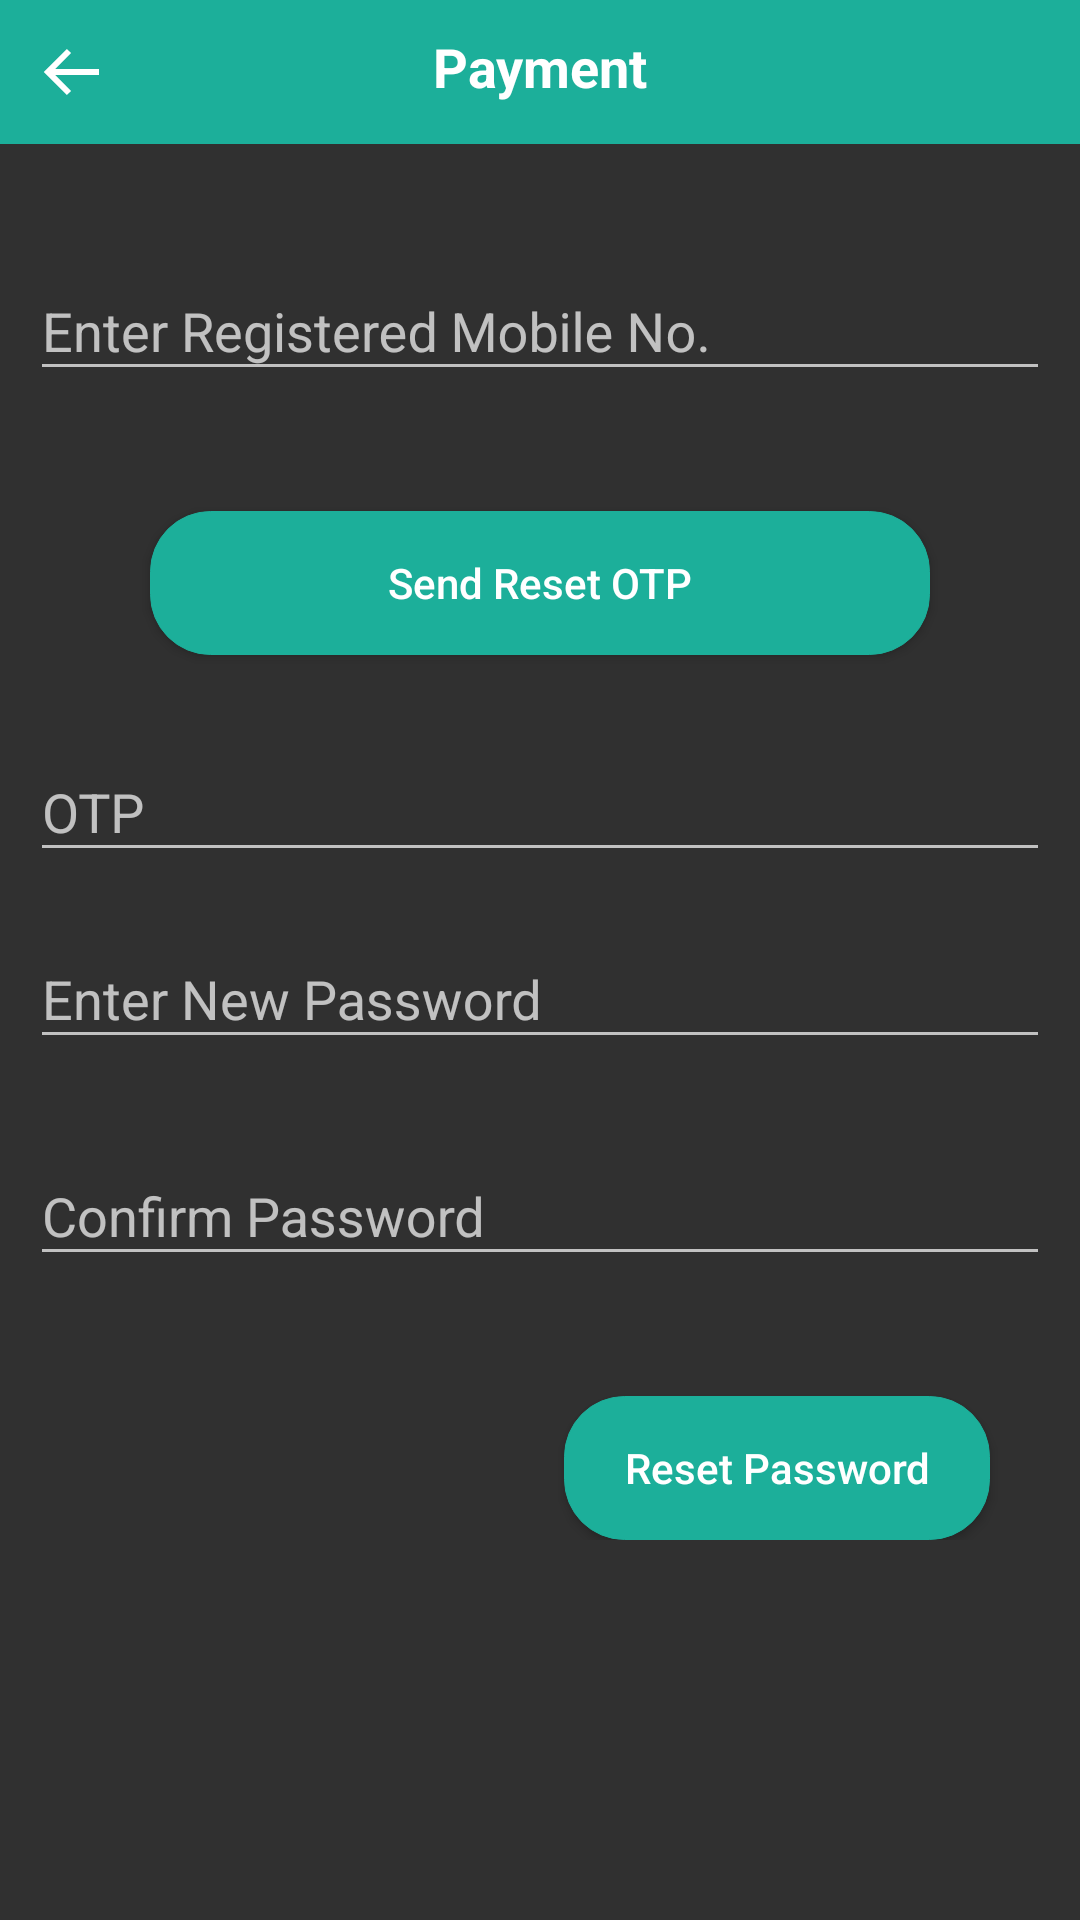

Icon bounding boxes for this 1080 x 1920 phone screenshot, format bbox=(x1, y1, x2, y2):
back: bbox=(44, 49, 99, 95)
